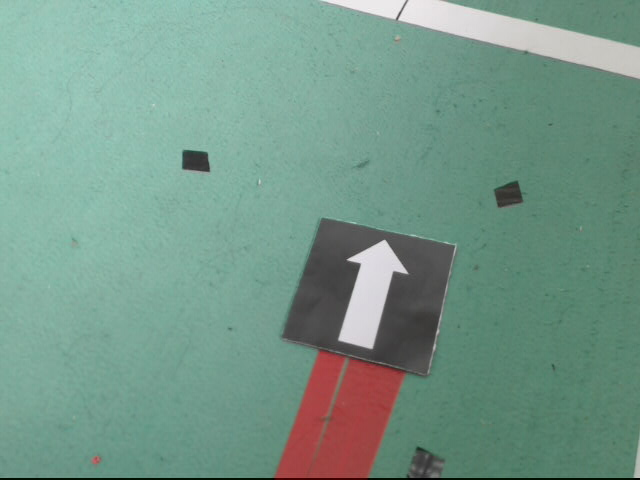straight: (285, 219, 460, 376)
